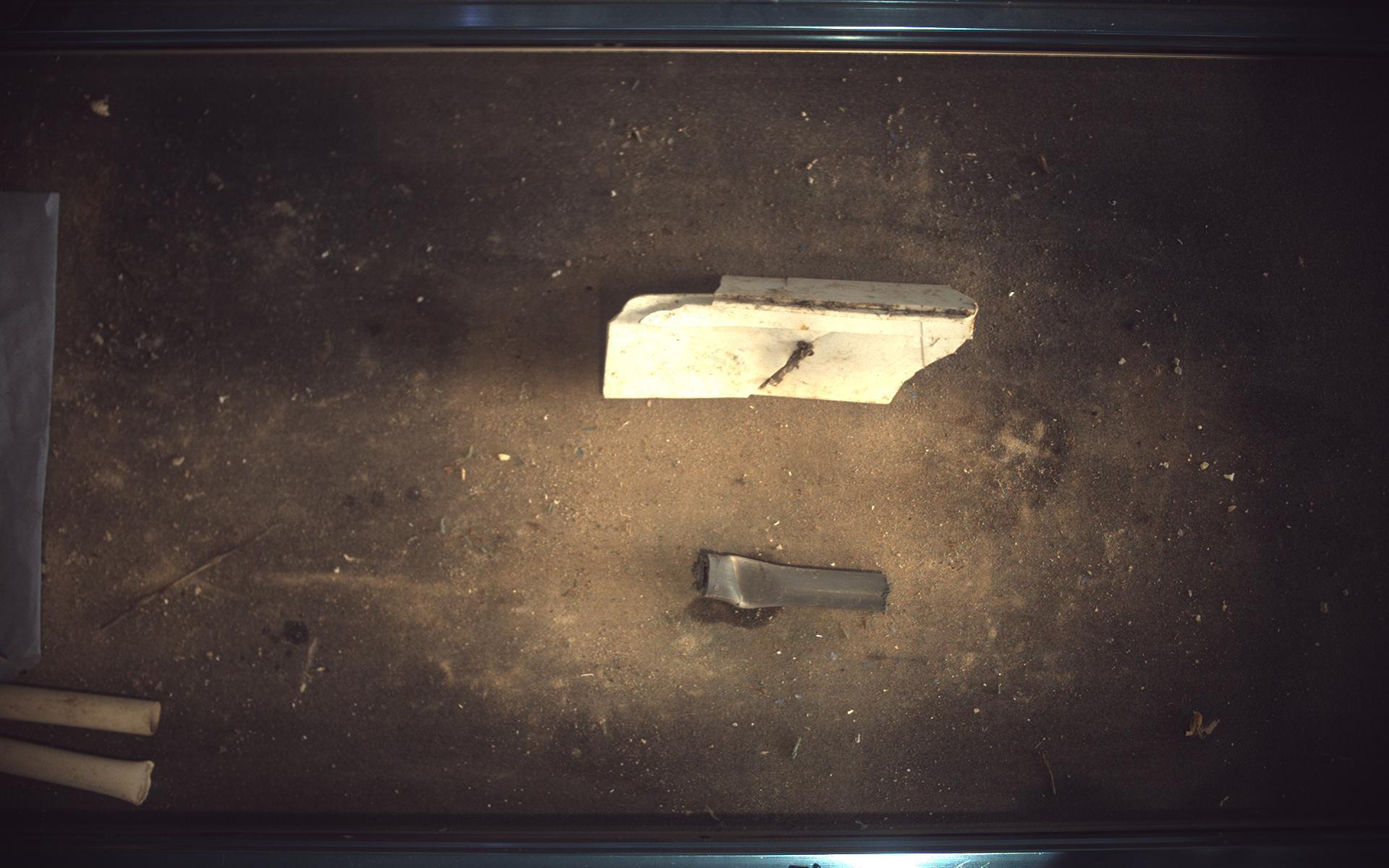pipes: (698, 550, 891, 611), (1, 739, 153, 807), (1, 685, 159, 737)
plastic: (603, 275, 980, 404)
